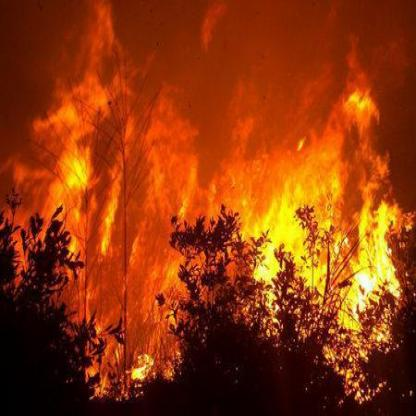fire: (7, 60, 406, 388)
